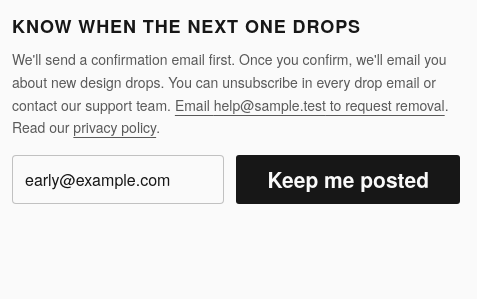
Test: DropSignupForm › retains early typing after refusal and clears it on a successful retry
Submit the form labelled "Know when the next one drops"
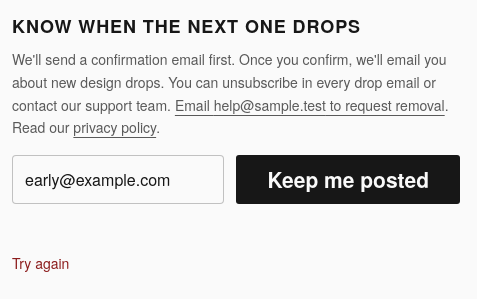
Expected: the field labelled "Know when the next one drops" holds "early@example.com", [12,155,224,204]
Result: the message "Try again" is shown at [12,253,69,273]
Click the button "Keep me posted" at [348, 180], box [236,155,460,204]
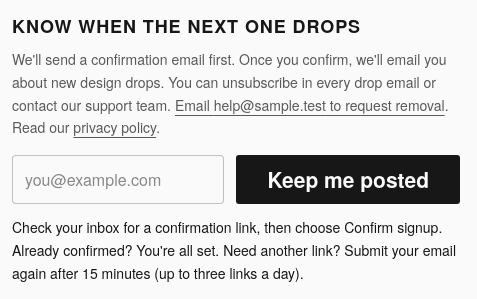
Result: the text "Check your inbox for a confirmation link" is shown at [12,217,456,283]
Result: the field labelled "Know when the next one drops" is empty at [12,155,224,204]
